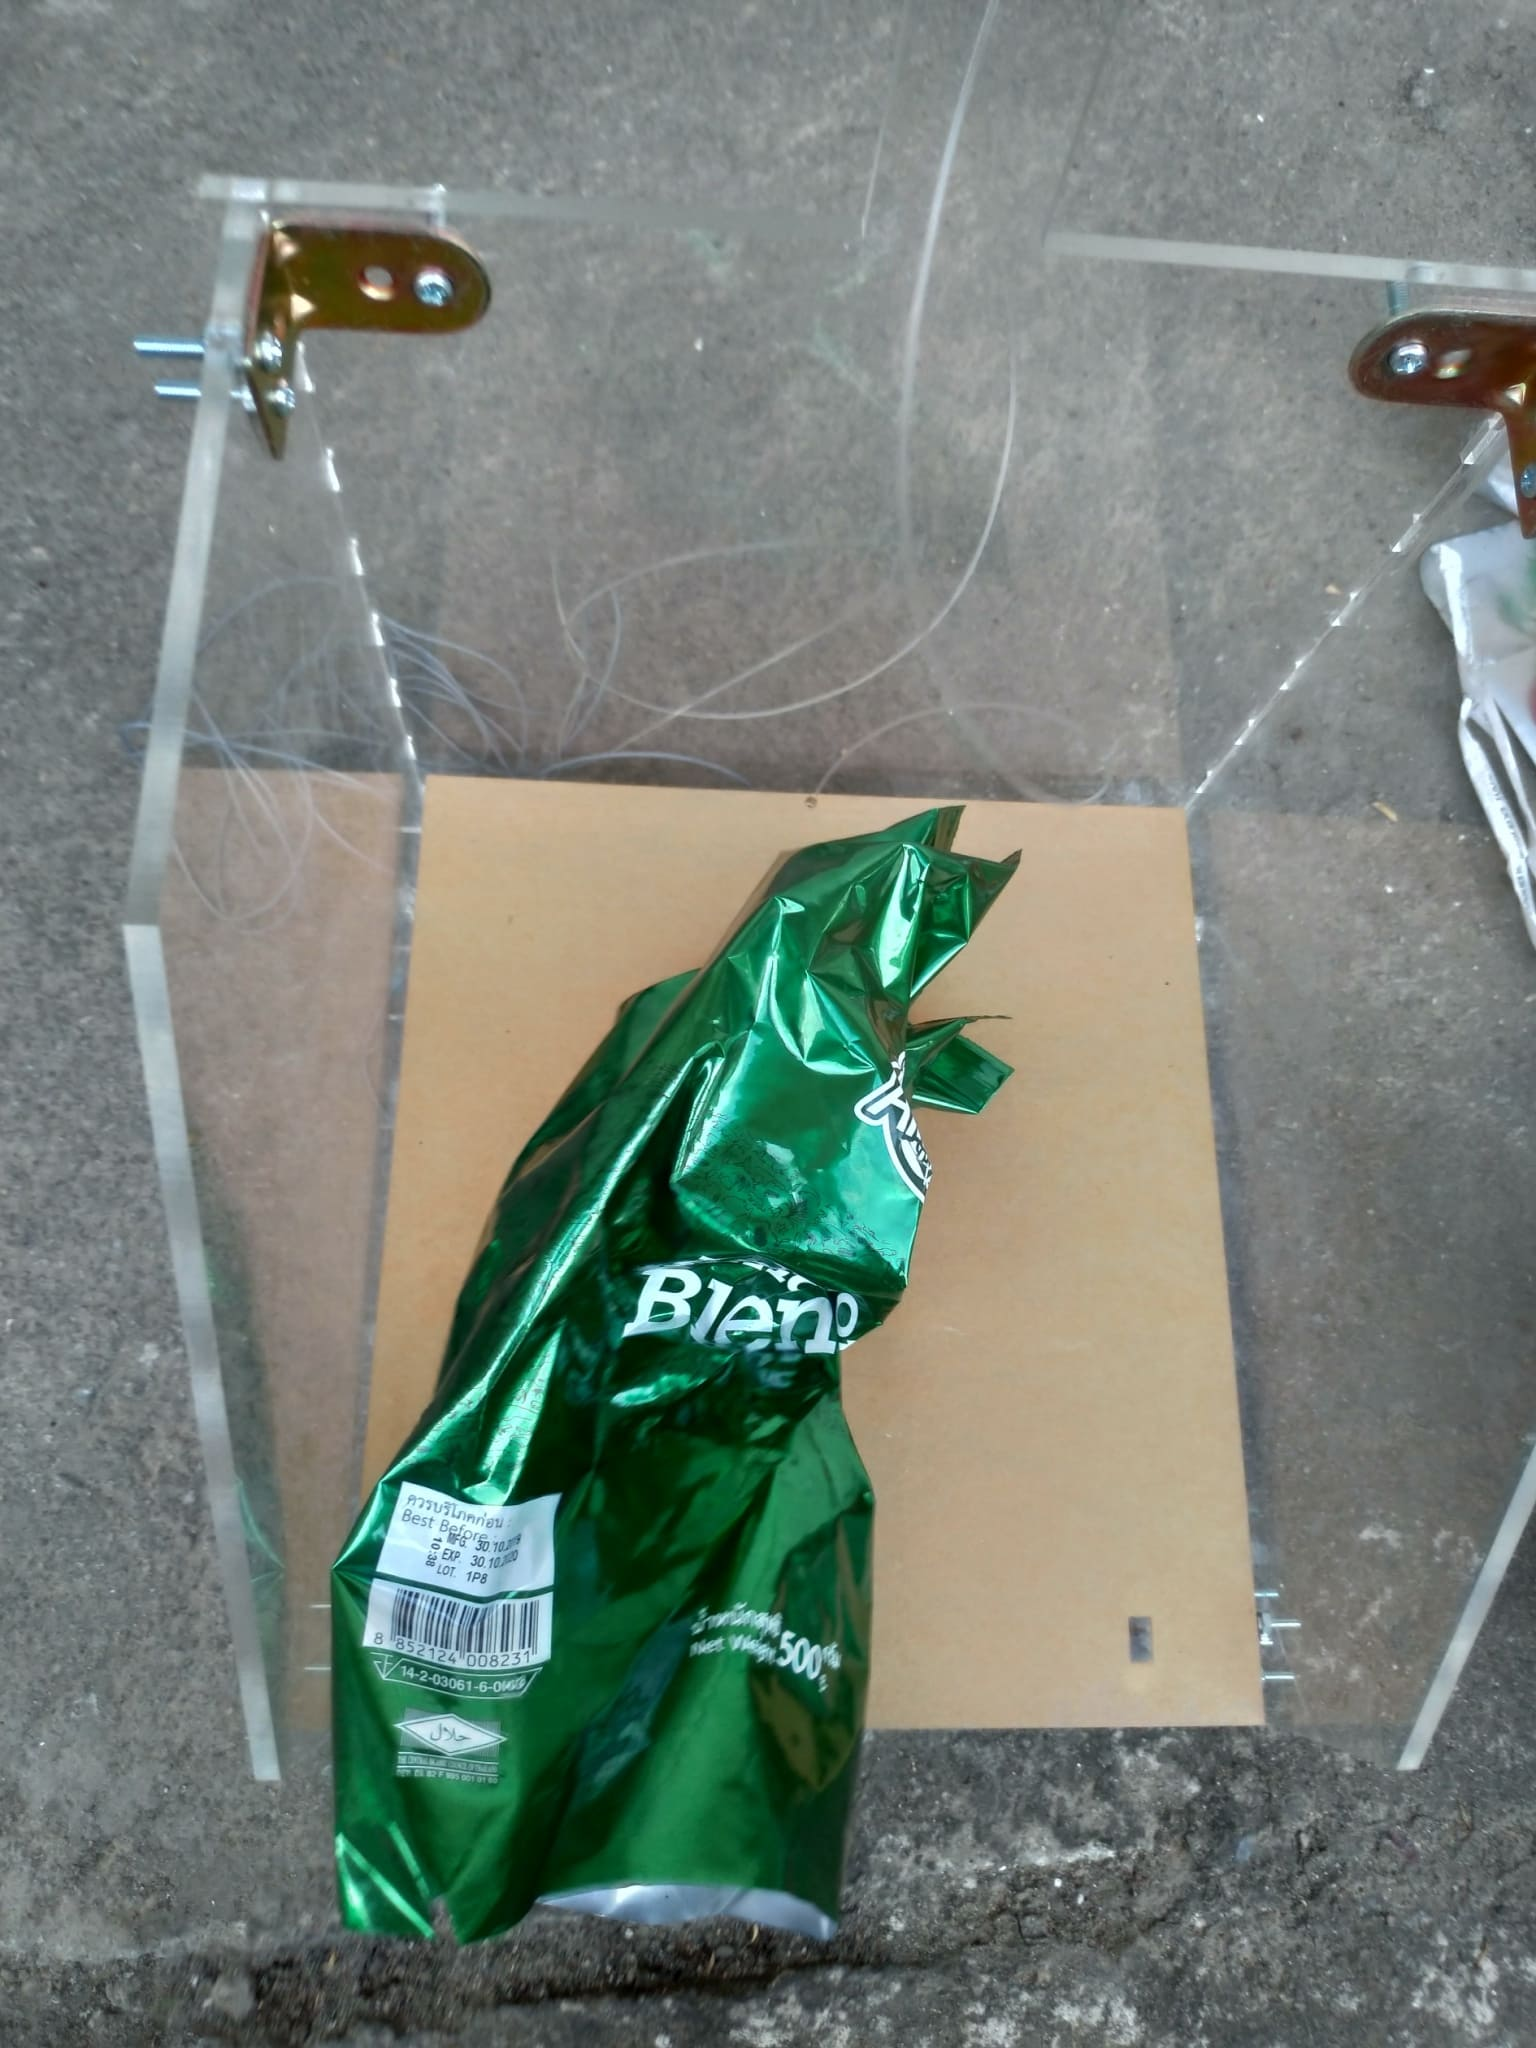Others: (324, 784, 1021, 1942)
